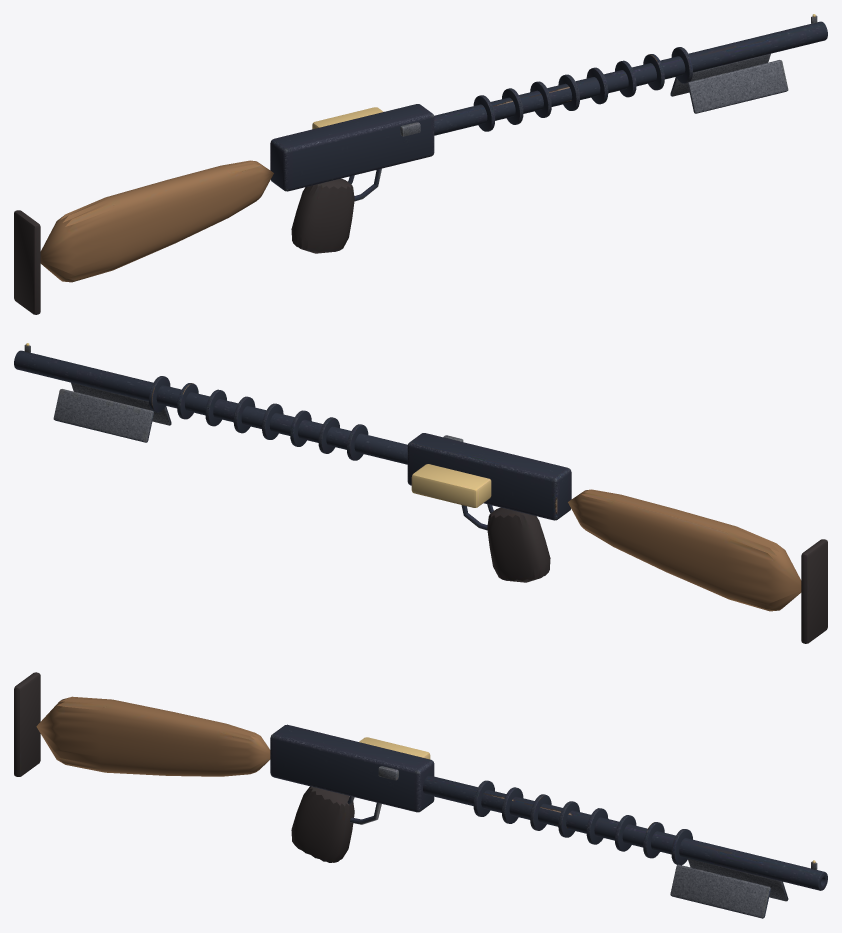
File: stormlock.glb
3 renders of one model, top to bottom at view 1: azimuth 30°, elevation 25°; view 2: azimuth 150°, elevation 25°; view 3: azimuth 330°, elevation 25°, orthographic.
Visible parts, largest first — view 1: stock, receiver, barrel, grip, bipod_fin-1, butt_plate, bipod_fin1; view 2: stock, receiver, barrel, grip, bipod_fin1, butt_plate, side_mag, bipod_fin-1; view 3: stock, receiver, barrel, grip, bipod_fin-1, butt_plate, bipod_fin1, side_mag.
Boxes of the visible parts, x1,y1,x2,y2 form: stock: (40, 160, 273, 282); receiver: (270, 104, 434, 191); barrel: (434, 21, 827, 135); grip: (291, 178, 354, 253); bipod_fin-1: (688, 60, 788, 113); butt_plate: (14, 210, 40, 314); bipod_fin1: (670, 53, 770, 96); stock: (568, 489, 801, 611); receiver: (407, 433, 571, 520); barrel: (14, 350, 407, 464); grip: (487, 507, 550, 582); bipod_fin1: (53, 389, 153, 442); butt_plate: (801, 539, 827, 643); side_mag: (411, 464, 491, 507); bipod_fin-1: (71, 382, 171, 425); stock: (36, 696, 270, 776); receiver: (270, 724, 434, 812); barrel: (423, 775, 827, 890); grip: (291, 786, 354, 862); bipod_fin-1: (670, 864, 770, 918); butt_plate: (14, 672, 40, 776); bipod_fin1: (688, 858, 788, 901); side_mag: (359, 737, 430, 759).
Bounding box in the file's own units: 0.849 × 0.1204 × 0.0734.
Materials: 1 (1 with a texture image).
